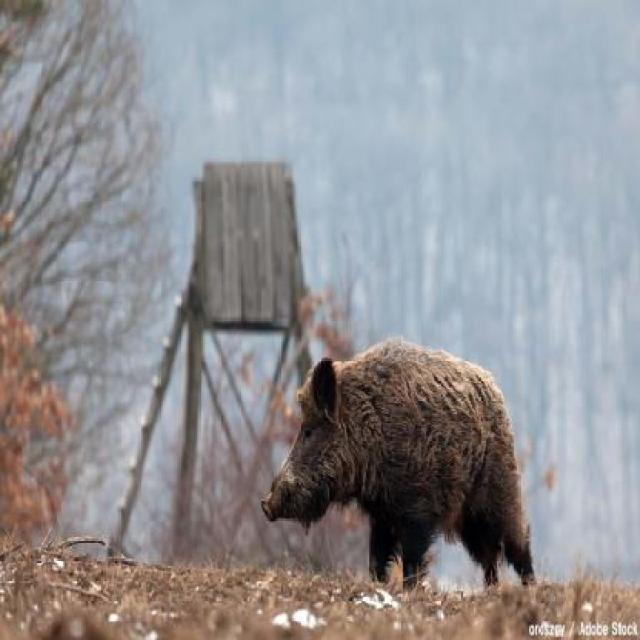wildboar: (252, 328, 546, 602)
